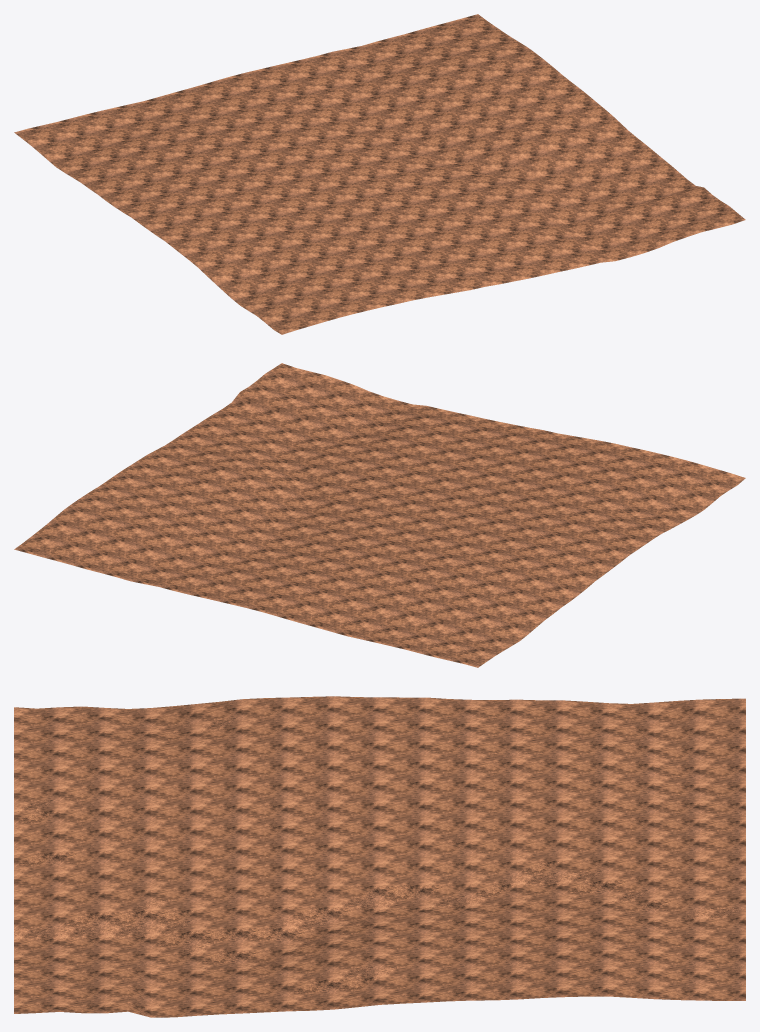
The model's file is terrain_07_11.dae.
The picture shows the model from 3 angles, top to bottom: view 1: azimuth 30°, elevation 25°; view 2: azimuth 150°, elevation 25°; view 3: azimuth 270°, elevation 25°; orthographic projection. The views are drawn at different scales.
Parts seen in each view (by area): view 1: terrain_07_11-node; view 2: terrain_07_11-node; view 3: terrain_07_11-node.
Boxes of the visible parts, <box> form: terrain_07_11-node: <box>14,14,745,334</box>; terrain_07_11-node: <box>14,363,745,667</box>; terrain_07_11-node: <box>14,696,745,1017</box>.
Bounding box in the file's own units: 128 × 128 × 5.89.
1 material, 1 textured.
